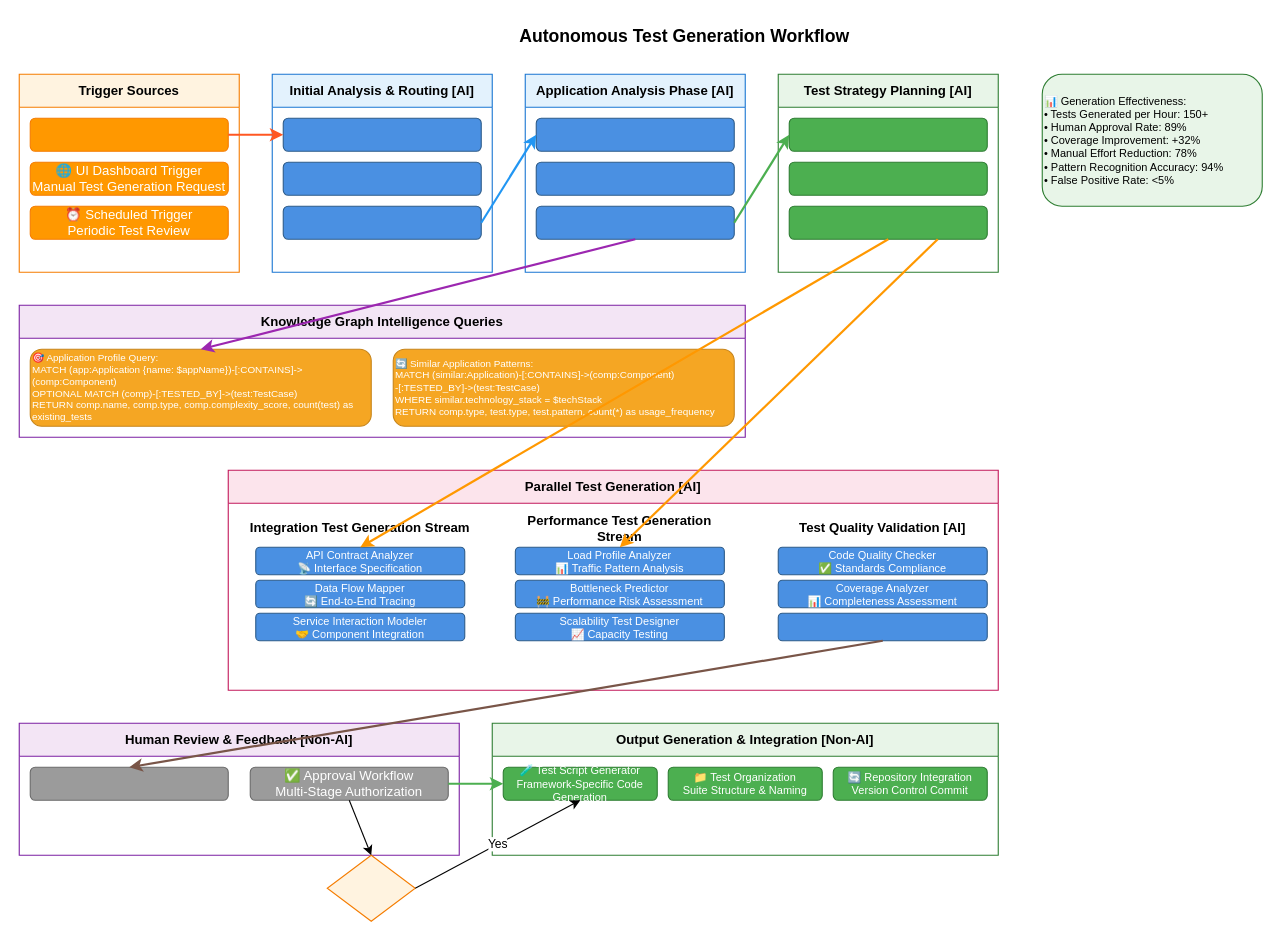
Image size: 1282x941. Some labels were removed from this diagram. Each missing label, with the centre of its shape:
Approved?: pixel 370 887
Change Impact Assessor 📈 Risk Evaluation: pixel 634 222
Coverage Goal Calculator 📊 Target Setting: pixel 887 178
Dependency Mapper Agent 🔗 Component Relationship Analysis: pixel 634 178
Maintainability Scorer 🔧 Code Quality Assessment: pixel 882 626
Priority Assessment Agent ⚡ Urgency Calculation: pixel 381 178
Repository Scanner Agent 🔬 Codebase Analysis: pixel 634 134
Request Analysis Agent 📊 Context Extraction: pixel 381 134
Template Selector 📋 Pattern Matching: pixel 887 222
Test Type Prioritizer 🎯 Strategy Selection: pixel 887 134
Workflow Selection Agent 🎯 Process Optimization: pixel 381 222
📋 Test Review Dashboard Generated Test Presentation: pixel 128 783
🚀 CI/CD Pipeline Trigger New Code Commit/Merge: pixel 128 134
